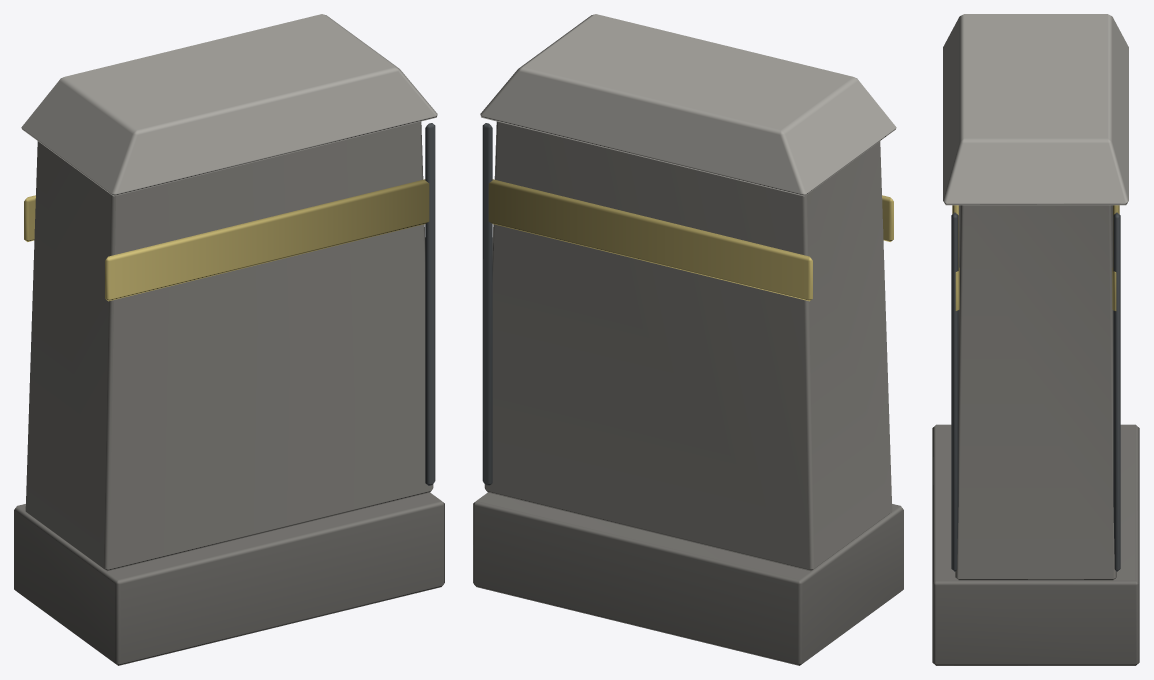
Rendered from wall.glb.
3 views of the same model, side by side, from view 1: azimuth 30°, elevation 25°; view 2: azimuth 150°, elevation 25°; view 3: azimuth 270°, elevation 25° (orthographic).
Visible parts, largest first — view 1: Body; view 2: Body; view 3: Body.
Boxes of the visible parts, bbox=[...] form: Body: bbox=[14, 14, 444, 665]; Body: bbox=[473, 14, 903, 665]; Body: bbox=[932, 14, 1139, 665].
Size of the model in its own units: 2 by 3 by 1.1.
